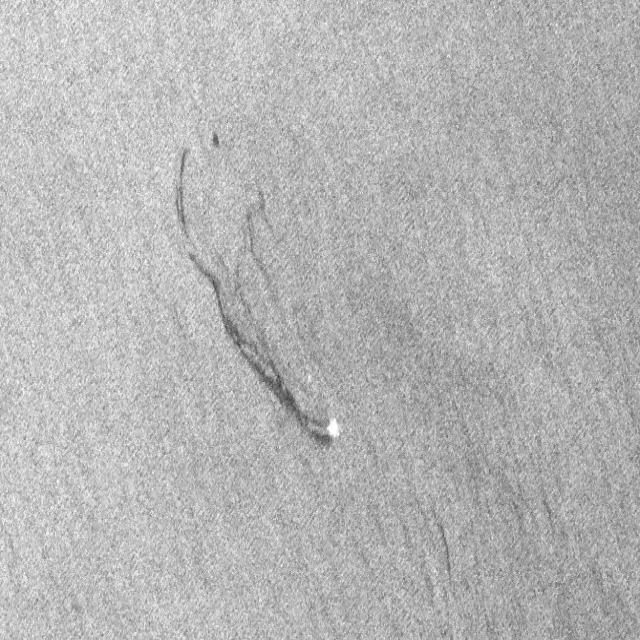oil-spill: (201, 270, 321, 448), (244, 189, 292, 317), (160, 149, 203, 256)
ship: (326, 417, 341, 441)
